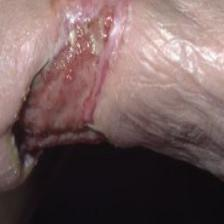wound-ulser: (0, 0, 129, 174)
